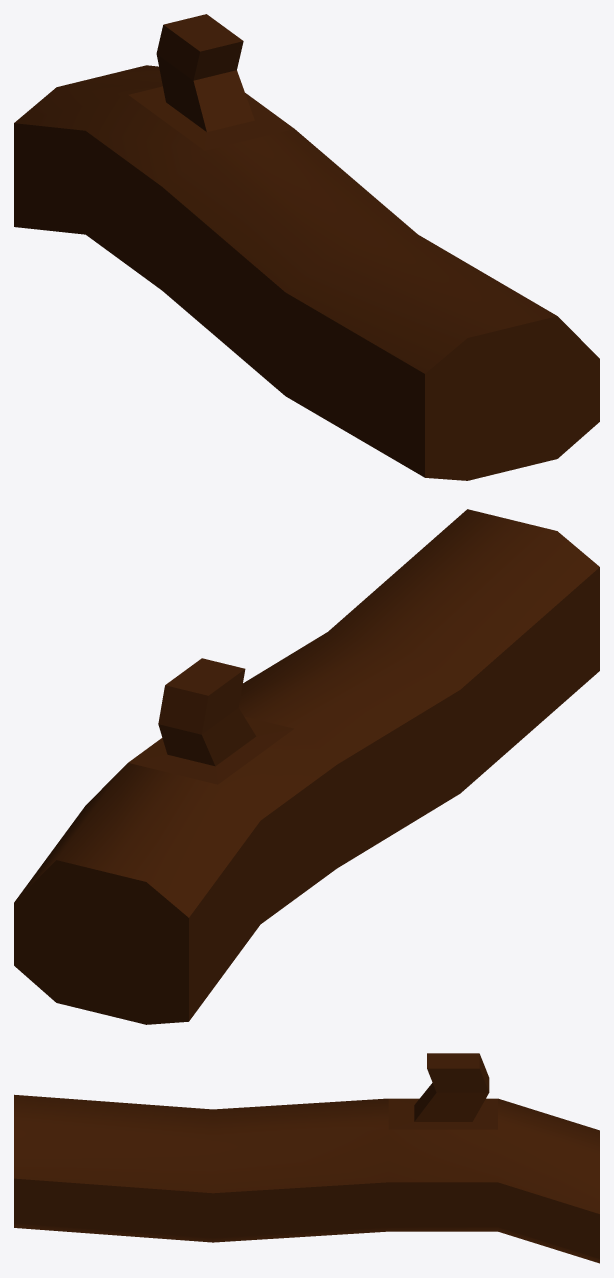
Rendered from Log_0001.FBX.
3 views of the same model, one above another, from view 1: azimuth 30°, elevation 25°; view 2: azimuth 150°, elevation 25°; view 3: azimuth 270°, elevation 25° (orthographic). The views are drawn at different scales.
Visible parts, largest first — view 1: Log 1; view 2: Log 1; view 3: Log 1.
Part boxes in pixels (x1,y1,x2,y2): Log 1: (14,14,599,480); Log 1: (14,509,599,1024); Log 1: (14,1053,599,1263).
Size of the model in its own units: 17.84 by 25.51 by 72.59.
